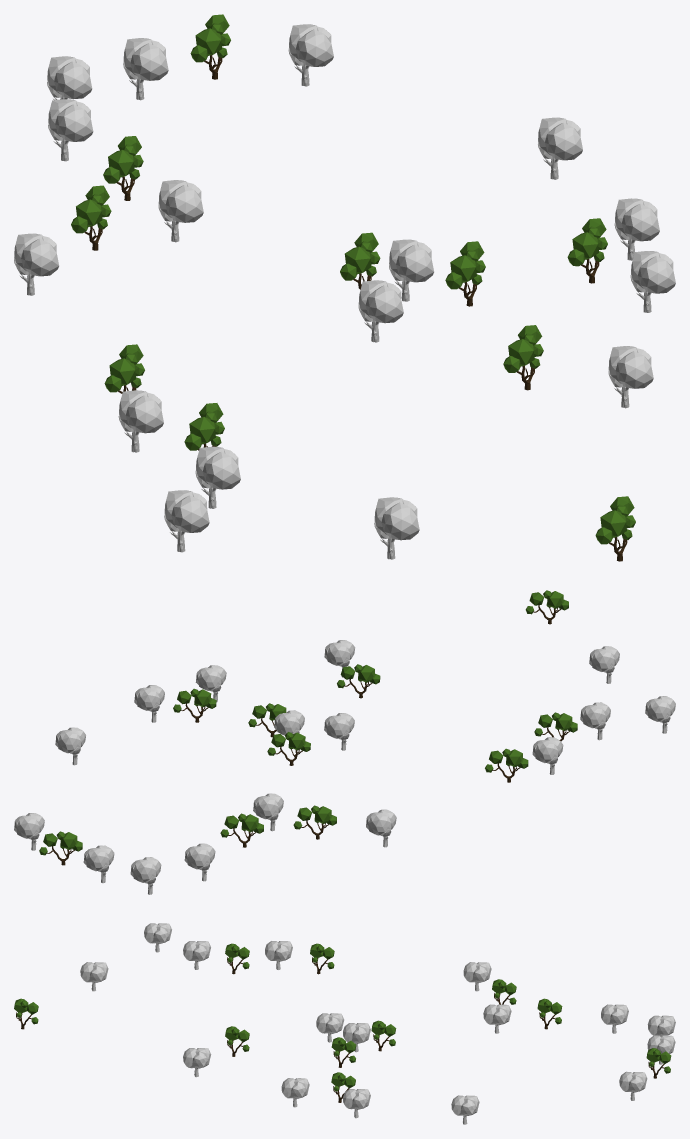
The model's file is alberi.obj.
The picture shows the model from 3 angles, top to bottom: view 1: azimuth 30°, elevation 25°; view 2: azimuth 150°, elevation 25°; view 3: azimuth 270°, elevation 25°; orthographic projection. The views are drawn at different scales.
Visible parts, largest first — view 1: Icosphere.006_Icosphere.007, Icosphere_Icosphere.001, Icosphere.010_Icosphere.011, Icosphere.003_Icosphere.004, Icosphere.005_Icosphere.006, Icosphere.012_Icosphere.013, Icosphere.007_Icosphere.008, Icosphere.011_Icosphere.012, Icosphere.008_Icosphere.009, Icosphere.016_Icosphere.017, Icosphere.009_Icosphere.010, Icosphere.013_Icosphere.014 (+14 smaller); view 2: Tree_lp_11.001, Tree_lp_11.009, Tree_lp_11, Tree_lp_11.005, Tree_lp_11.006, Tree_lp_11.004, Tree_lp_11.003, Tree_lp_11.008, Tree_lp_11.007, Icosphere.012_Icosphere.013, Icosphere.011_Icosphere.012, Icosphere.013_Icosphere.014 (+14 smaller); view 3: Icosphere.011_Icosphere.012, Icosphere.012_Icosphere.013, Icosphere.005_Icosphere.006, Icosphere.010_Icosphere.011, Icosphere.016_Icosphere.017, Icosphere.001_Icosphere.002, Icosphere.015_Icosphere.016, Icosphere.009_Icosphere.010, Icosphere.013_Icosphere.014, Icosphere.006_Icosphere.007, Icosphere.002_Icosphere.003, Icosphere_Icosphere.001 (+14 smaller).
Boxes of the visible parts, x1=… form: Icosphere.006_Icosphere.007: x1=608, y1=346, x2=653, y2=388; Icosphere_Icosphere.001: x1=614, y1=198, x2=659, y2=241; Icosphere.010_Icosphere.011: x1=374, y1=497, x2=419, y2=540; Icosphere.003_Icosphere.004: x1=389, y1=239, x2=434, y2=282; Icosphere.005_Icosphere.006: x1=358, y1=280, x2=403, y2=323; Icosphere.012_Icosphere.013: x1=158, y1=180, x2=203, y2=222; Icosphere.007_Icosphere.008: x1=195, y1=446, x2=240, y2=489; Icosphere.011_Icosphere.012: x1=14, y1=233, x2=59, y2=276; Icosphere.008_Icosphere.009: x1=118, y1=390, x2=163, y2=433; Icosphere.016_Icosphere.017: x1=538, y1=117, x2=582, y2=160; Icosphere.009_Icosphere.010: x1=164, y1=490, x2=209, y2=532; Icosphere.013_Icosphere.014: x1=48, y1=99, x2=93, y2=141; Tree_lp_11.001: x1=267, y1=732, x2=310, y2=765; Tree_lp_11.009: x1=39, y1=831, x2=82, y2=865; Tree_lp_11: x1=173, y1=688, x2=216, y2=722; Tree_lp_11.005: x1=525, y1=590, x2=568, y2=624; Tree_lp_11.006: x1=485, y1=748, x2=528, y2=782; Tree_lp_11.004: x1=220, y1=813, x2=263, y2=847; Tree_lp_11.003: x1=293, y1=805, x2=336, y2=839; Tree_lp_11.008: x1=337, y1=664, x2=380, y2=698; Tree_lp_11.007: x1=534, y1=712, x2=577, y2=741; Icosphere.012_Icosphere.013: x1=253, y1=793, x2=283, y2=820; Icosphere.011_Icosphere.012: x1=366, y1=809, x2=396, y2=836; Icosphere.013_Icosphere.014: x1=184, y1=843, x2=215, y2=870; Icosphere.011_Icosphere.012: x1=463, y1=962, x2=491, y2=982; Icosphere.012_Icosphere.013: x1=483, y1=1004, x2=511, y2=1025; Icosphere.005_Icosphere.006: x1=316, y1=1013, x2=344, y2=1033; Icosphere.010_Icosphere.011: x1=80, y1=962, x2=108, y2=982; Icosphere.016_Icosphere.017: x1=451, y1=1095, x2=479, y2=1115; Icosphere.001_Icosphere.002: x1=281, y1=1078, x2=309, y2=1098; Icosphere.015_Icosphere.016: x1=647, y1=1015, x2=675, y2=1035; Icosphere.009_Icosphere.010: x1=144, y1=923, x2=171, y2=943; Icosphere.013_Icosphere.014: x1=601, y1=1004, x2=628, y2=1024; Icosphere.006_Icosphere.007: x1=183, y1=1048, x2=211, y2=1068; Icosphere.002_Icosphere.003: x1=619, y1=1071, x2=647, y2=1092; Icosphere_Icosphere.001: x1=343, y1=1089, x2=370, y2=1109.
Size of the model in its own units: 180 by 17.04 by 277.
